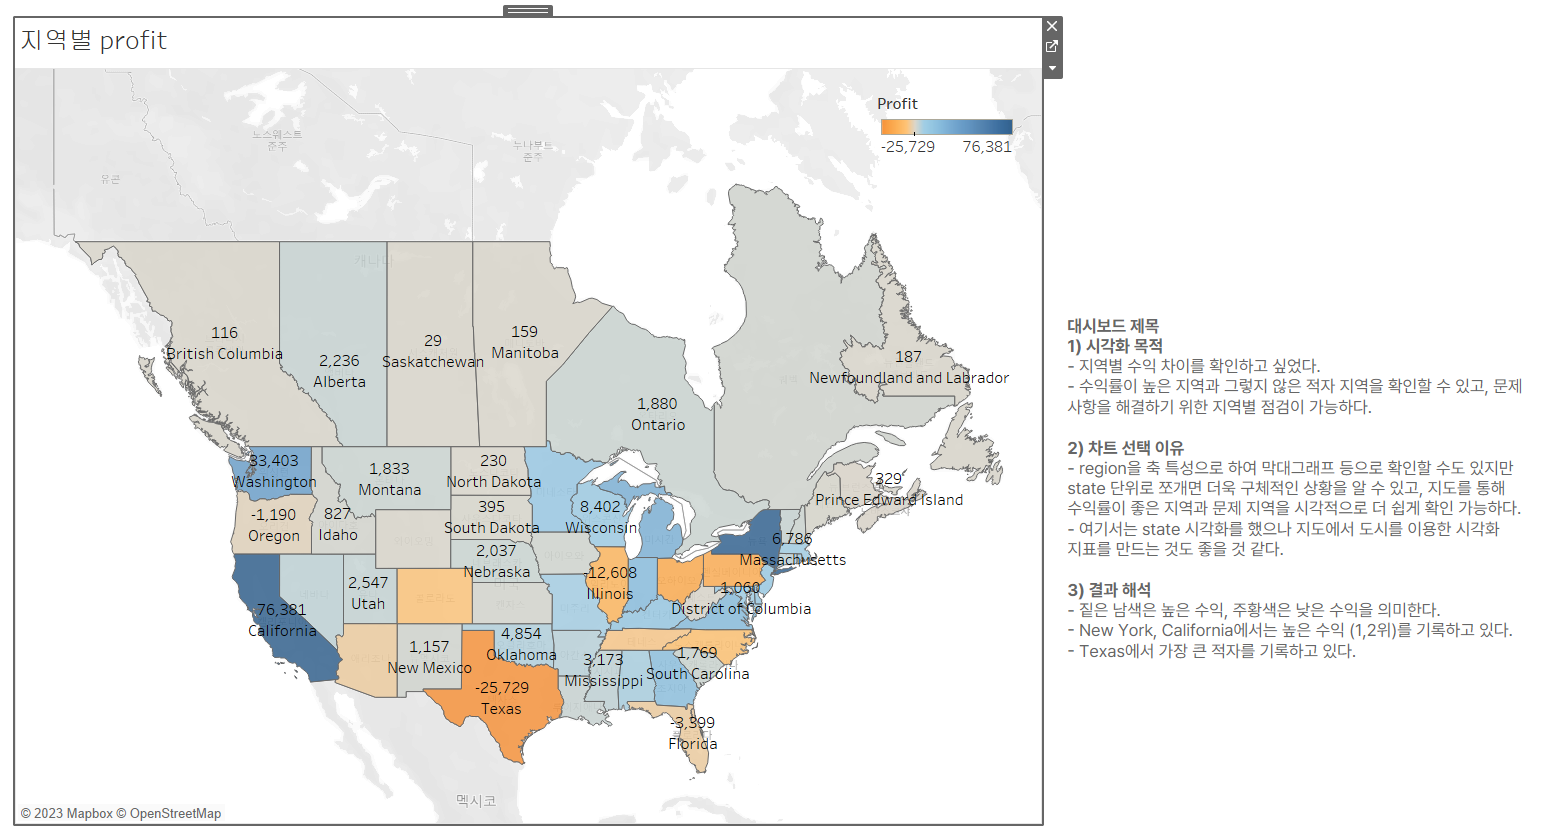

This screenshot's page, from the dashboard's own definition file:
{"tool":"tableau","page":{"name":"대시보드 2","canvas":[1600,900],"ordinal":2},"visuals":[{"type":"worksheet","title":"지역별 profit","mark":"Multipolygon","box":[33,33,1027,806]},{"type":"legend","title":"지역별 profit","param":"[Sample - Superstore].[sum:Profit:qk]","box":[895,108,140,88]},{"type":"text","box":[1082.3,202.7,486.1,611.7]}]}

Visuals, with their boxes on the page's 1600x900 design canvas (x1, y1, x2, y2). These are canvas units, not pixel positions in the 1556x827 screenshot, which may show the page scaled, cropped or inside an application window:
"지역별 profit" worksheet (Multipolygon marks): 33,33,1060,839
"지역별 profit" legend: 895,108,1035,196
text: 1082,203,1568,814
